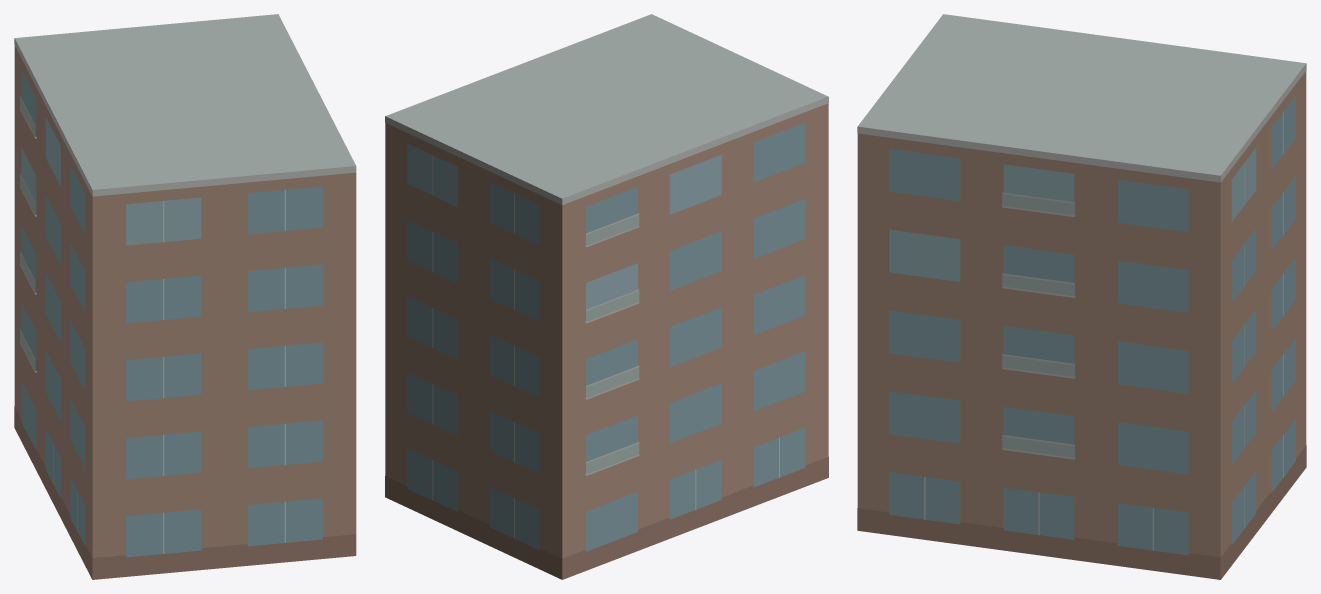
The model's file is survey-upis-32997599.glb.
3 views of the same model, side by side, from view 1: azimuth 30°, elevation 25°; view 2: azimuth 150°, elevation 25°; view 3: azimuth 270°, elevation 25° (orthographic). The views are drawn at different scales.
Visible parts, largest first — view 1: survey-upis-32997599.tmp; view 2: survey-upis-32997599.tmp; view 3: survey-upis-32997599.tmp.
Part boxes in pixels (x1,y1,x2,y2): survey-upis-32997599.tmp: [14, 14, 356, 579]; survey-upis-32997599.tmp: [385, 14, 828, 579]; survey-upis-32997599.tmp: [857, 14, 1306, 579].
Bounding box in the file's own units: 12.42 × 14.45 × 14.56.
